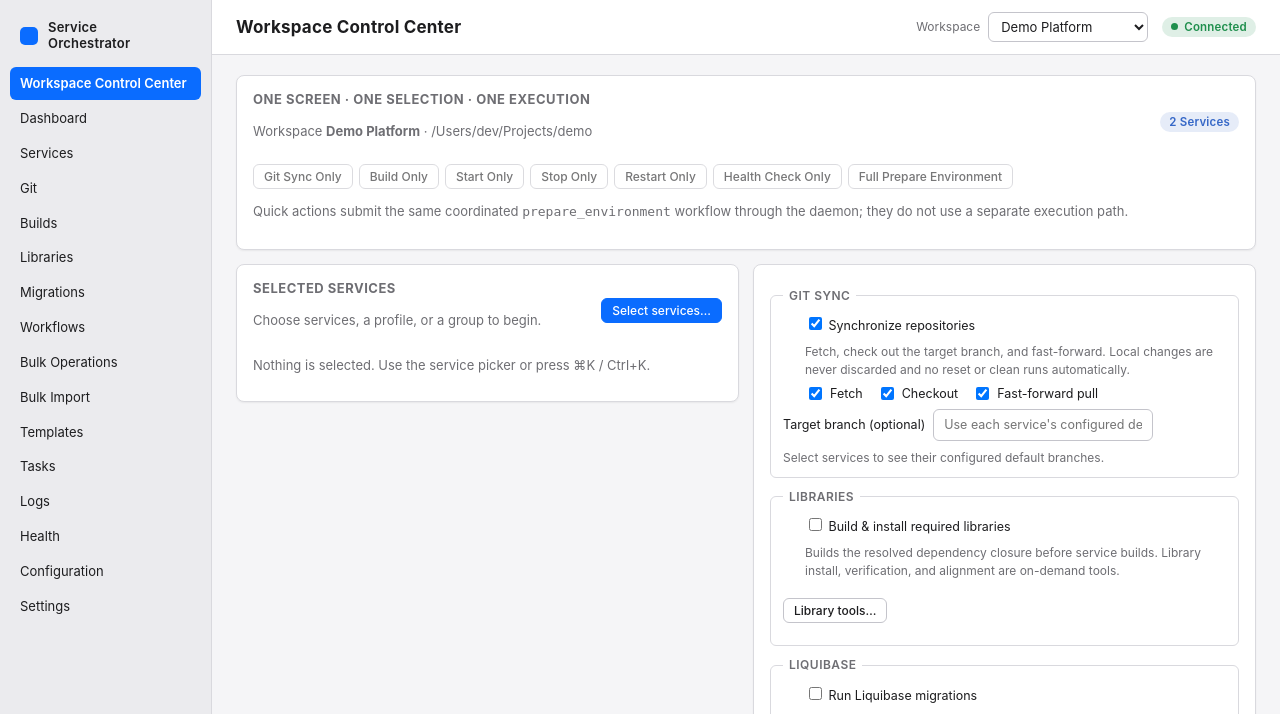
Test: application shell › scopes services to the selected workspace
Click the button "Services" at (106, 153), box [10,137,201,170]
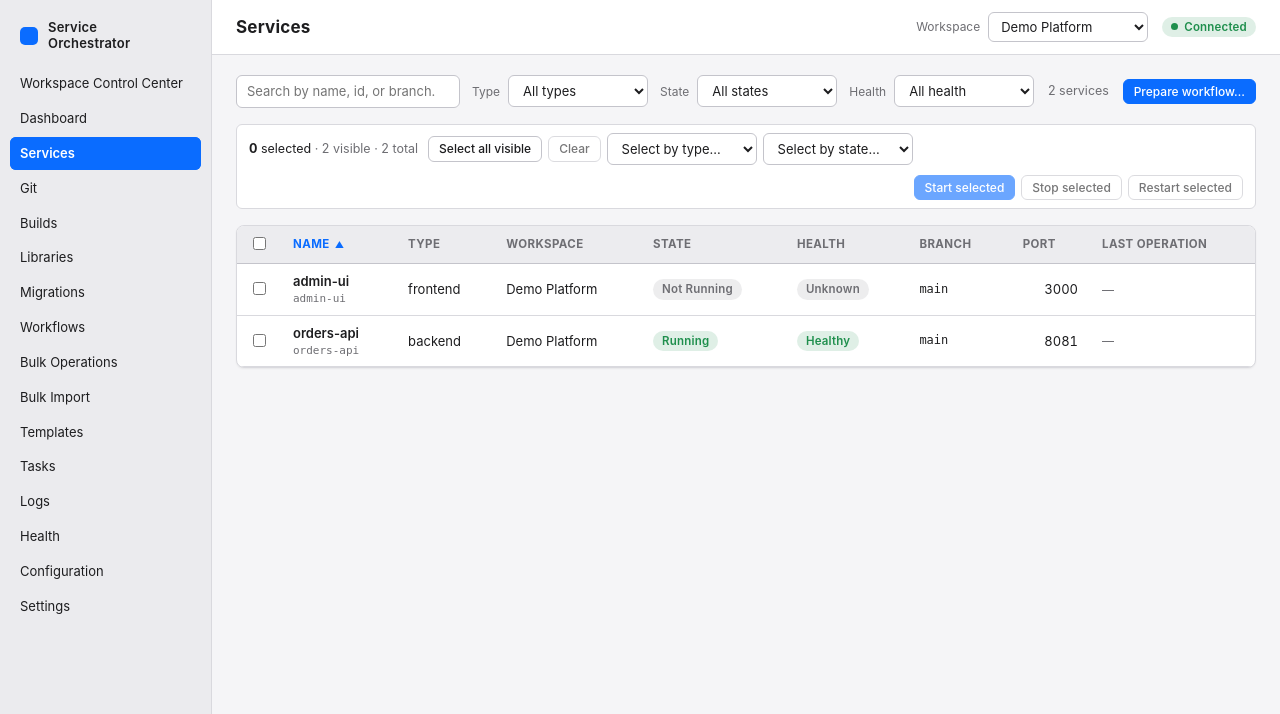
Result: the table is shown at [237,226,1255,367]
Select "Second Platform" in the dropdown named "Active workspace" at (1068, 27), box [988,12,1148,42]
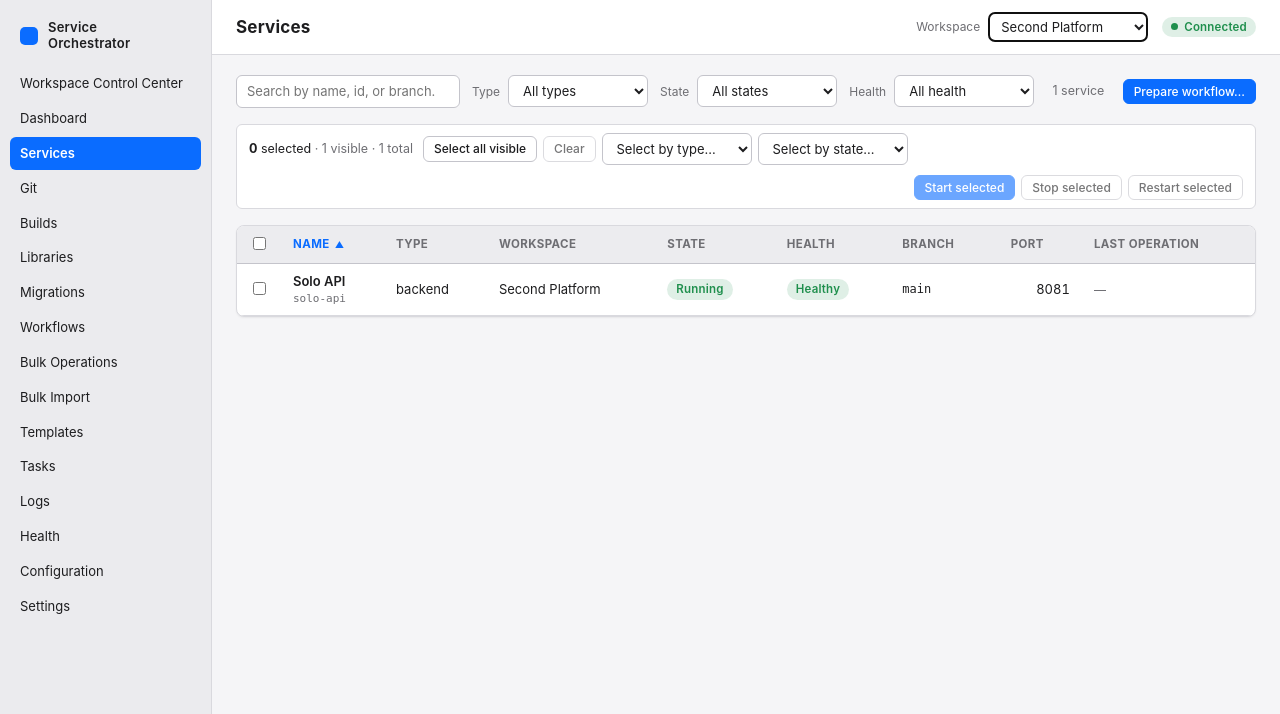
Result: the number of rows is 2 at [237,226,1255,263]; [237,264,1255,315]
Result: the text "Solo API" is shown at [293,273,345,289]
